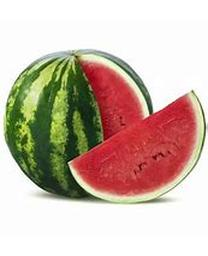watermelon: (8, 50, 154, 200), (65, 88, 204, 202)
